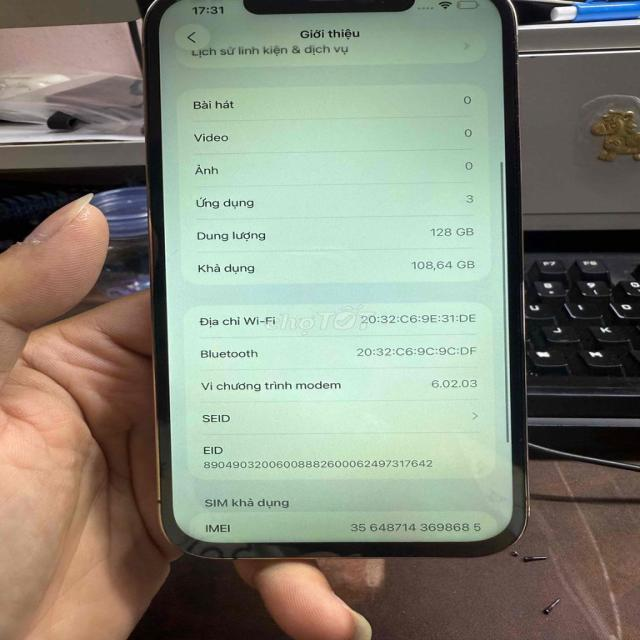gen_12_13: (128, 0, 553, 565)
